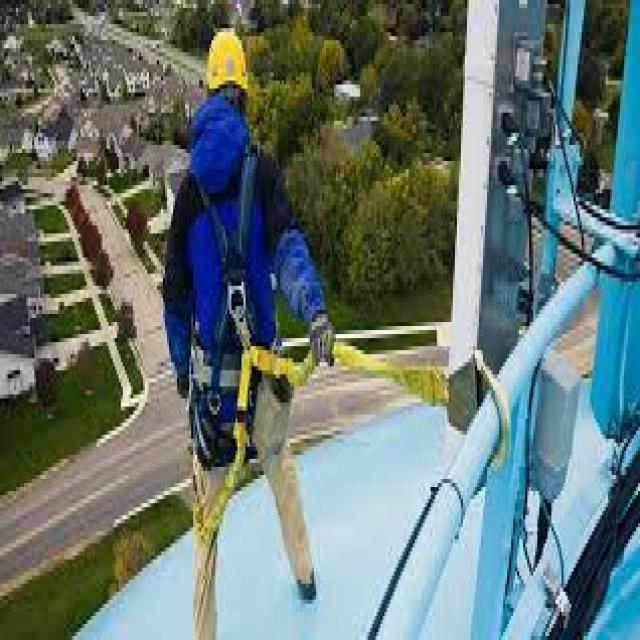harness: (230, 292, 516, 476)
